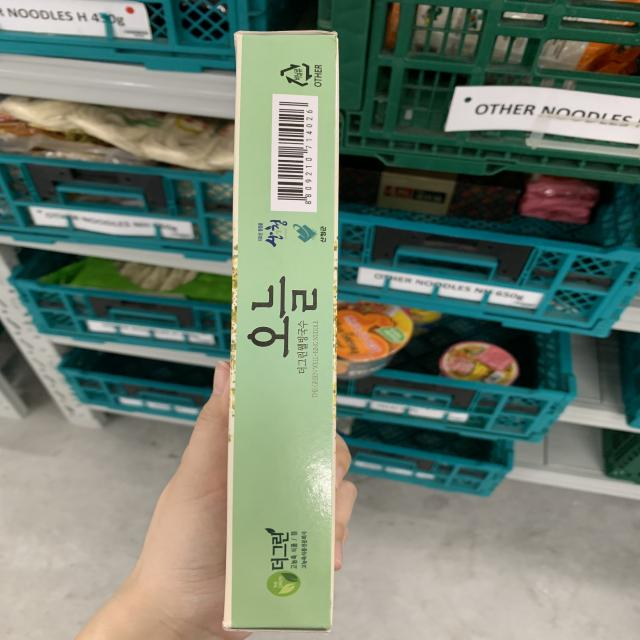object_name: (237, 42, 332, 618)
